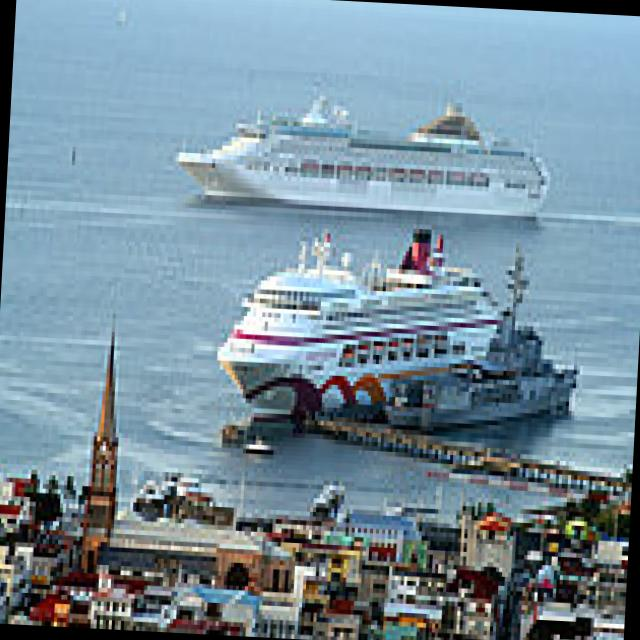boat: (208, 246, 592, 434), (174, 78, 560, 208)
